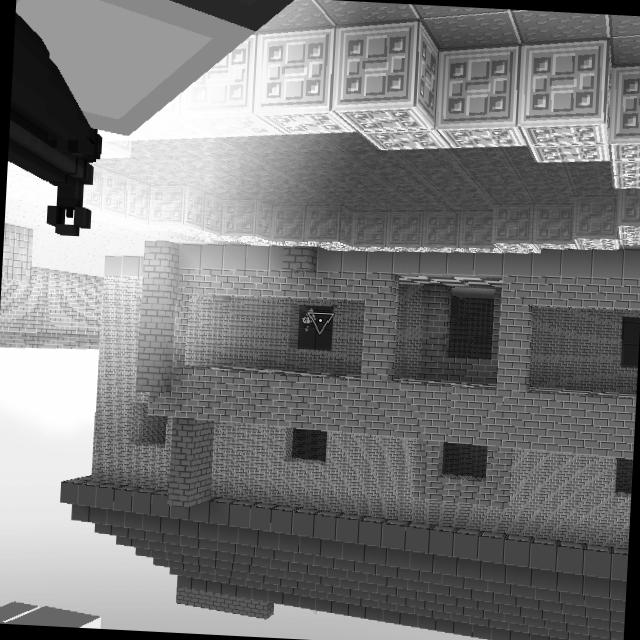enemy: (298, 306, 320, 332)
